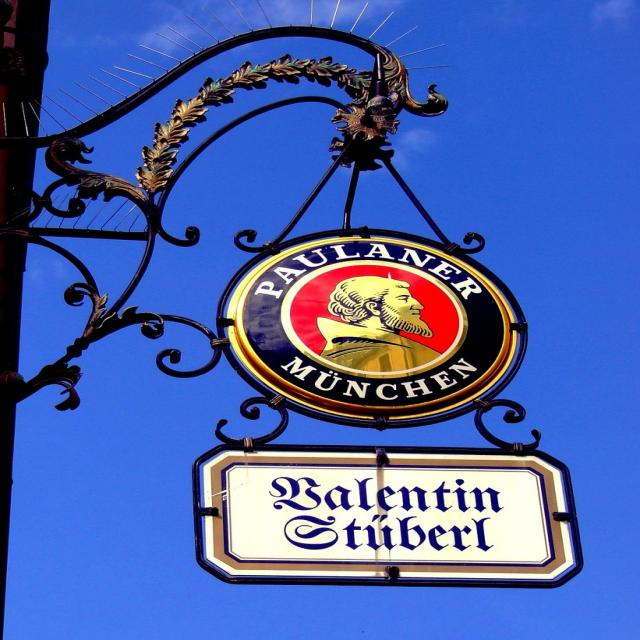paulaner: (226, 237, 519, 419)
